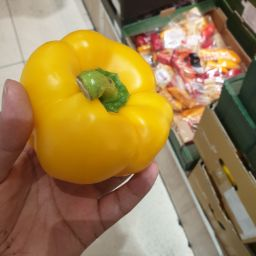Bell pepper: (14, 21, 180, 183), (36, 103, 175, 194), (41, 54, 155, 138)
